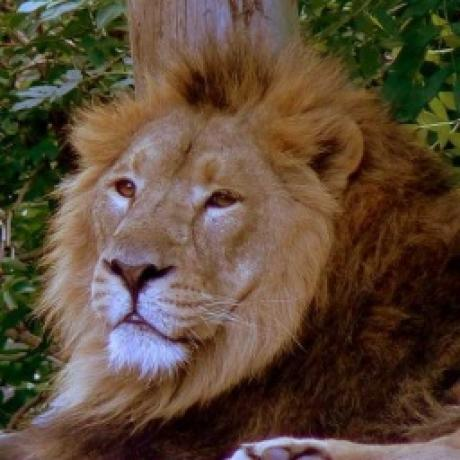Lion: (0, 25, 460, 460)
